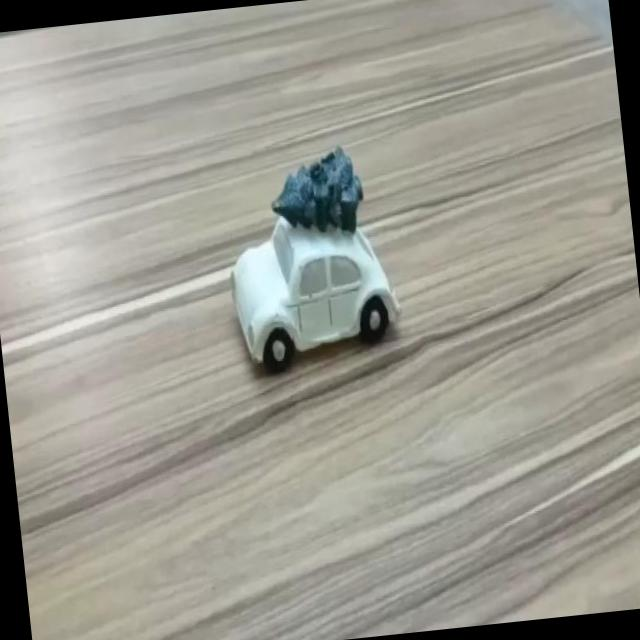car: (220, 204, 407, 376)
